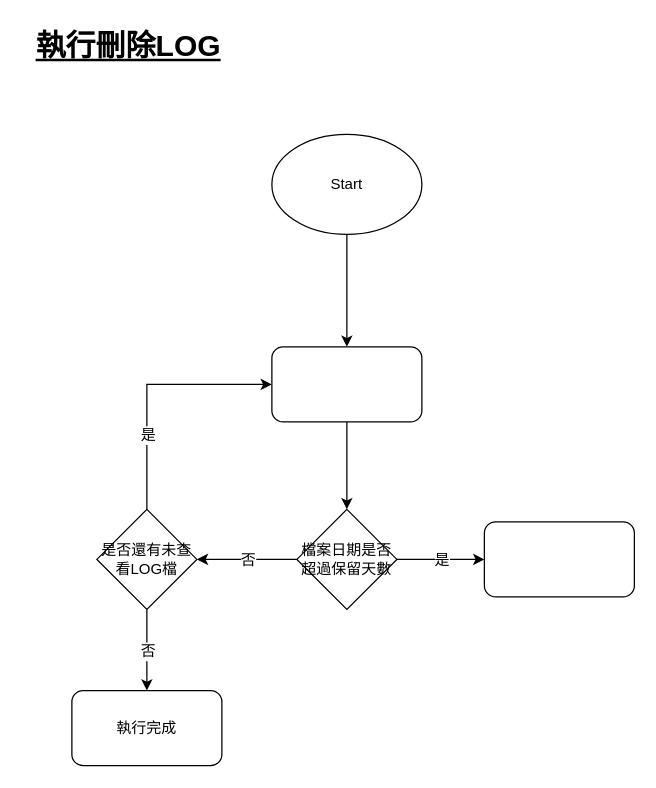
Image size: 656x788. Some labels were removed from this diagram. The shapes that lost their labels are listed below. From the top down, each one's centre as x and y in pixels, then its label:
At pixel 346 384: "逐一查看LOG檔".
At pixel 558 559: "刪除LOG檔".
